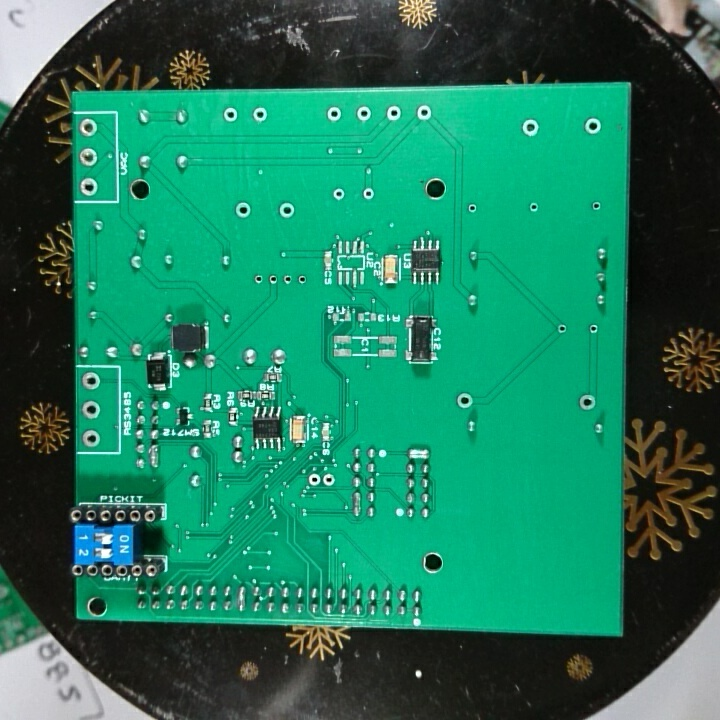F: (79, 369, 104, 394), (77, 175, 101, 198), (79, 398, 102, 422), (77, 145, 99, 170), (76, 116, 99, 139), (576, 390, 598, 414), (519, 115, 541, 138), (454, 390, 476, 413), (81, 429, 103, 450), (582, 115, 602, 138), (413, 104, 434, 124), (277, 200, 297, 221), (233, 198, 252, 220), (220, 105, 239, 126), (324, 103, 343, 124), (384, 103, 403, 123), (251, 105, 269, 125), (355, 104, 372, 125), (305, 471, 322, 491), (359, 185, 376, 203), (331, 186, 347, 205), (585, 321, 602, 338), (251, 272, 267, 289), (555, 320, 569, 338), (280, 272, 295, 288), (321, 472, 335, 489), (266, 271, 279, 288), (296, 272, 309, 289), (465, 201, 479, 216), (527, 199, 540, 215), (590, 199, 603, 212)
P: (351, 489, 365, 520), (235, 583, 248, 614), (146, 443, 160, 471), (405, 446, 431, 461)
